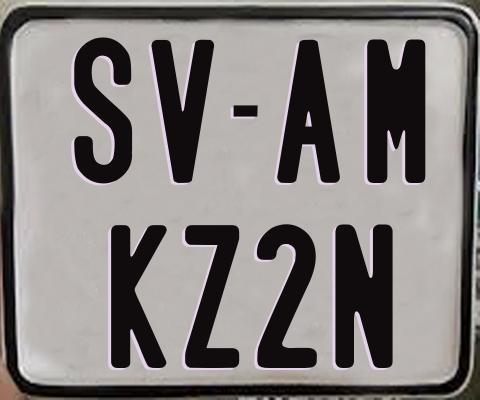2: (254, 223, 317, 367)
A: (275, 40, 343, 184)
K: (108, 222, 164, 370)
M: (367, 37, 428, 183)
N: (332, 223, 394, 367)
S: (73, 36, 135, 182)
V: (150, 40, 215, 189)
Z: (184, 225, 241, 372)
